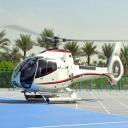helicopter: (9, 25, 124, 107)
